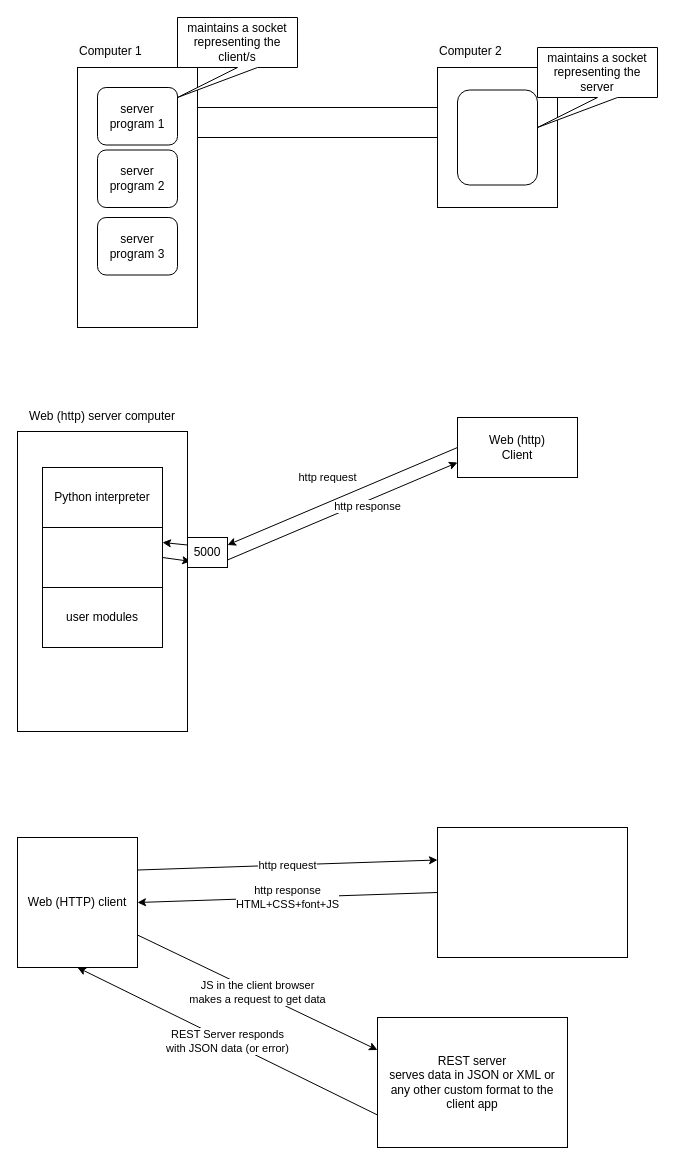
Image size: 675x1165. Some labels were removed from this diagram. Here are the shapes that lost their labels. From the top down, the centre of each, then its label:
the point at 317,122: Network
the point at 497,137: client program
the point at 102,557: framework
the point at 532,892: HTTP (web) server serves HTML, CSS and JS files to the client
